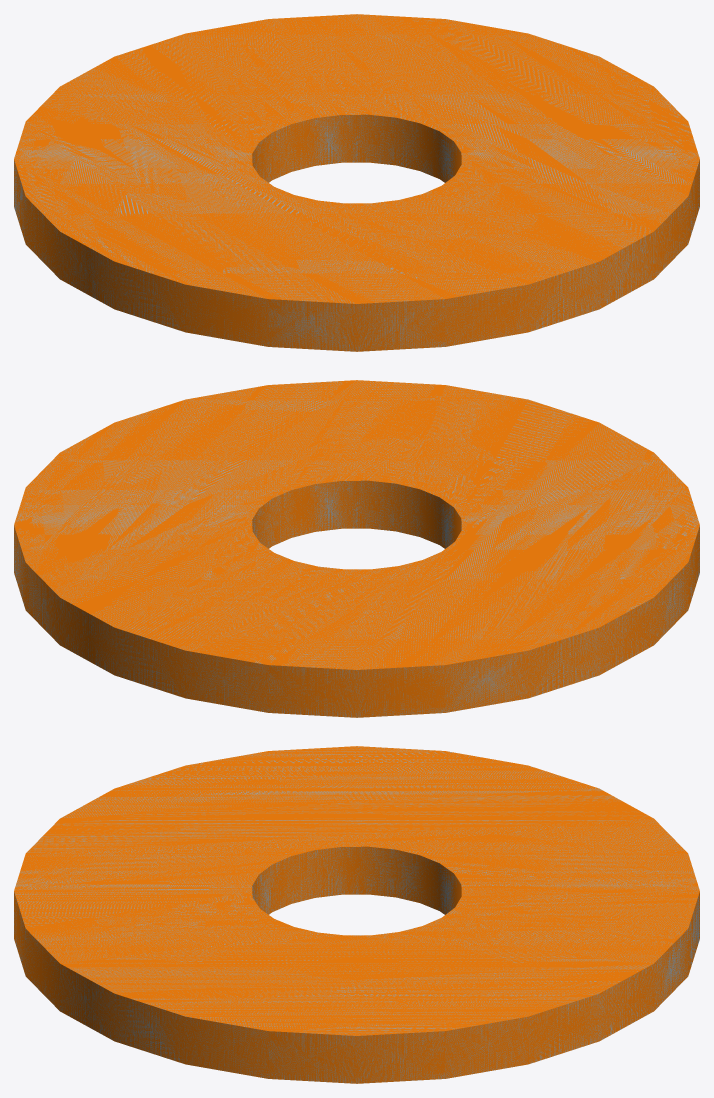
The model's file is disco_3.fbx.
The picture shows the model from 3 angles, top to bottom: view 1: azimuth 30°, elevation 25°; view 2: azimuth 150°, elevation 25°; view 3: azimuth 270°, elevation 25°; orthographic projection.
Parts seen in each view (by area): view 1: Model; view 2: Model; view 3: Model.
Part boxes in pixels (bbox=[...]): Model: bbox=[14, 14, 699, 351]; Model: bbox=[14, 380, 699, 717]; Model: bbox=[14, 746, 699, 1083].
Size of the model in its own units: 2.6 by 0.2 by 2.6.
